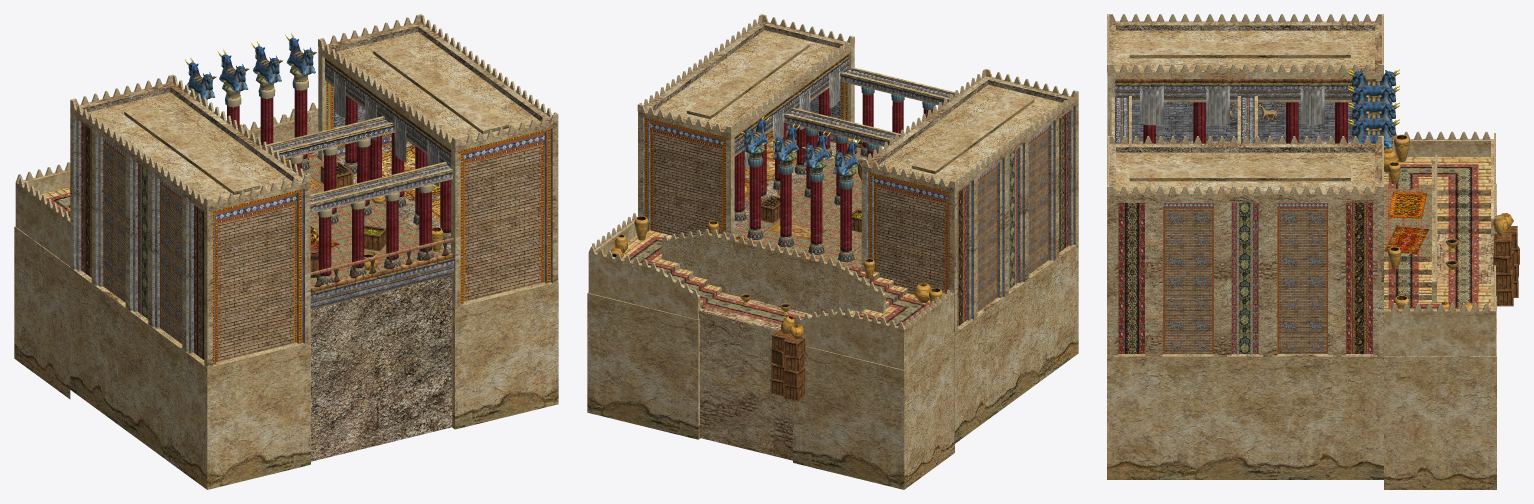
File: pers_tachara.glb
The picture shows the model from 3 angles, left to right: view 1: azimuth 30°, elevation 25°; view 2: azimuth 150°, elevation 25°; view 3: azimuth 270°, elevation 25°; orthographic projection. The views are drawn at different scales.
Bounding box in the file's own units: 28.95 × 24.05 × 29.17.
Materials: 1 (1 with a texture image).
